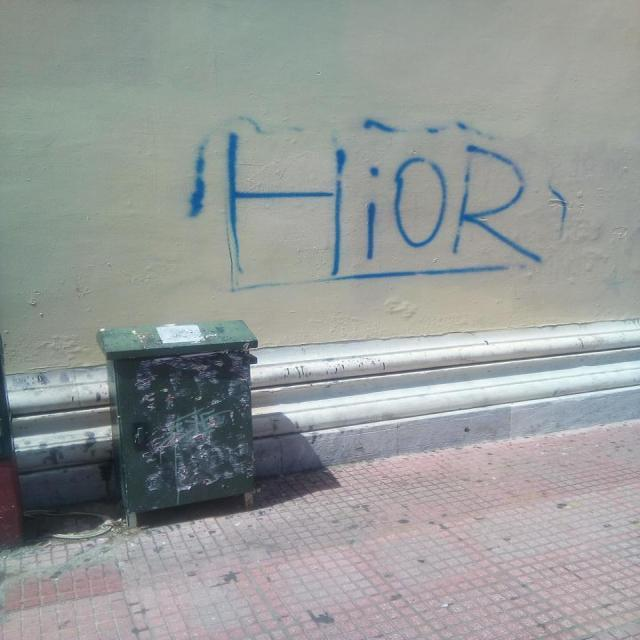nonspitting: (188, 119, 570, 294)
